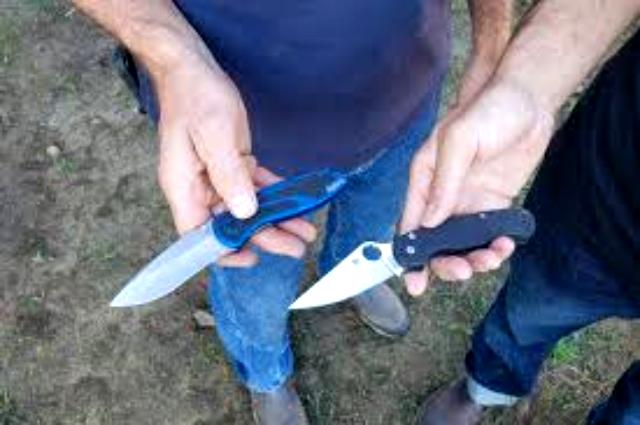pocket-knife: (80, 165, 354, 311), (281, 183, 534, 331)
